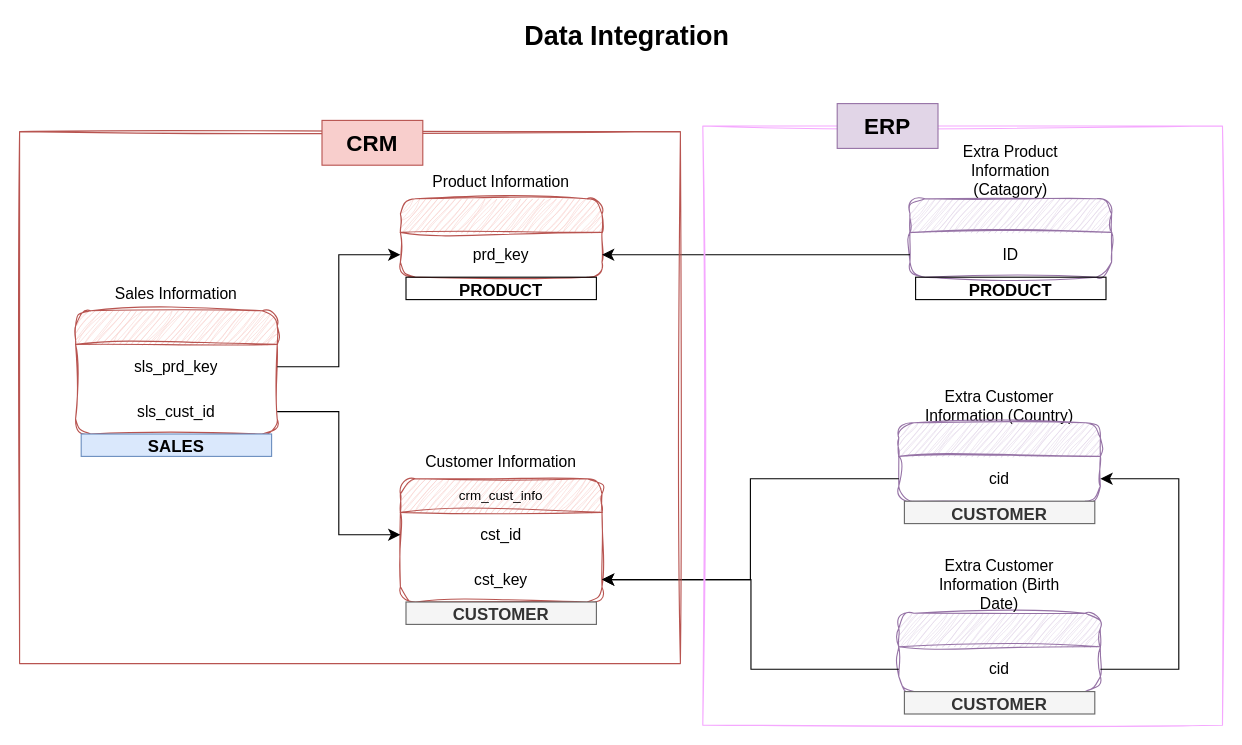
The diagram is 1242 pixels wide and 745 high, and some of its shapes have lost their labels. The shapes that lost their labels are listed below. From the top down, each one's box as (x1, y1, x2, y2) in pixels, then its label:
(399, 198, 602, 277): crm_prd_info
(909, 198, 1112, 277): erp_px_cat_g1v2
(74, 310, 277, 434): crm_sales_details
(898, 422, 1100, 501): erp_loc_a101
(898, 612, 1100, 692): erp_cust_az12
